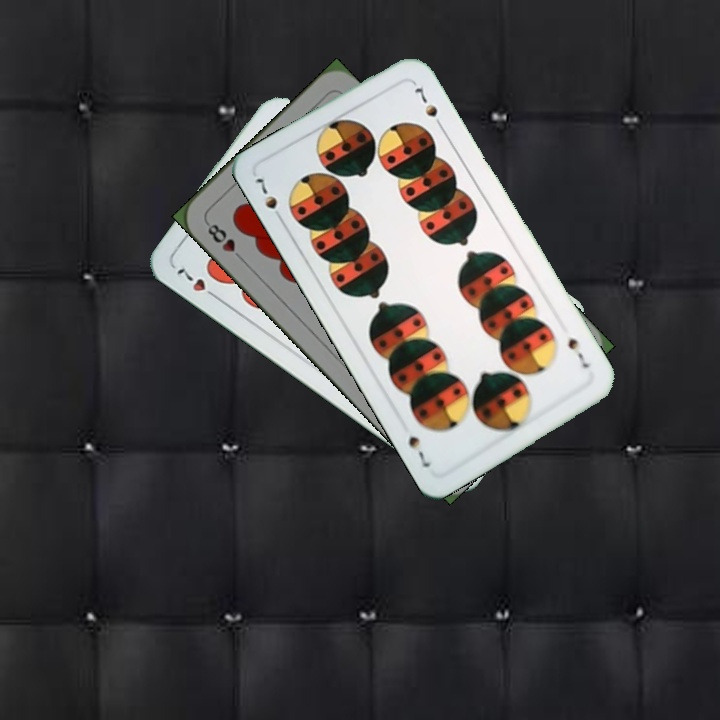H7: (172, 263, 222, 303)
H8: (202, 217, 247, 264)
S7: (251, 173, 287, 226), (563, 334, 592, 371)
